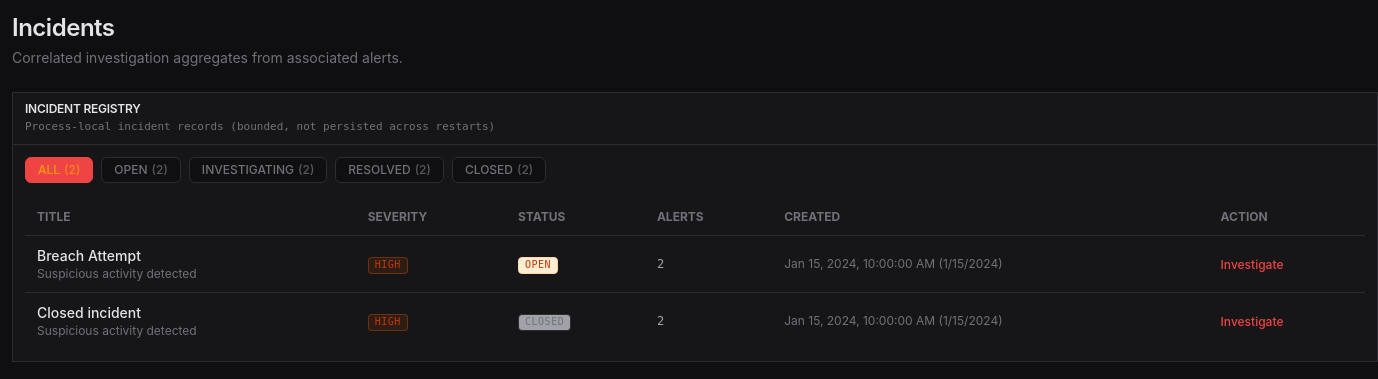
Test case: IncidentsPage › filters incidents by status and shows the matching incident
The width and height of the screenshot is (1378, 379).
Click the button "CLOSED(2)" at (499, 170), box left=452, top=156, right=546, bottom=182
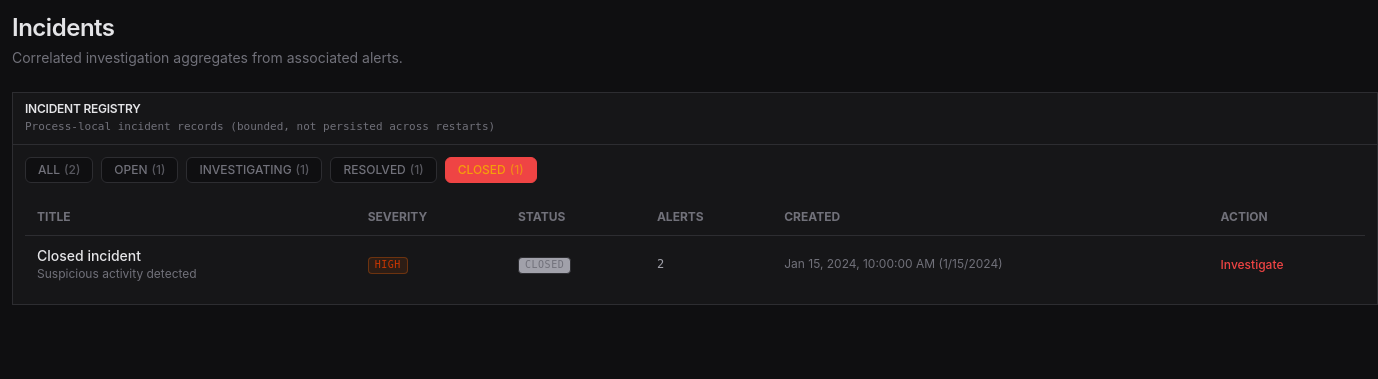
Expected: the text "Closed incident" is shown, left=37, top=246, right=141, bottom=264
Expected: the text "Breach Attempt" is gone
